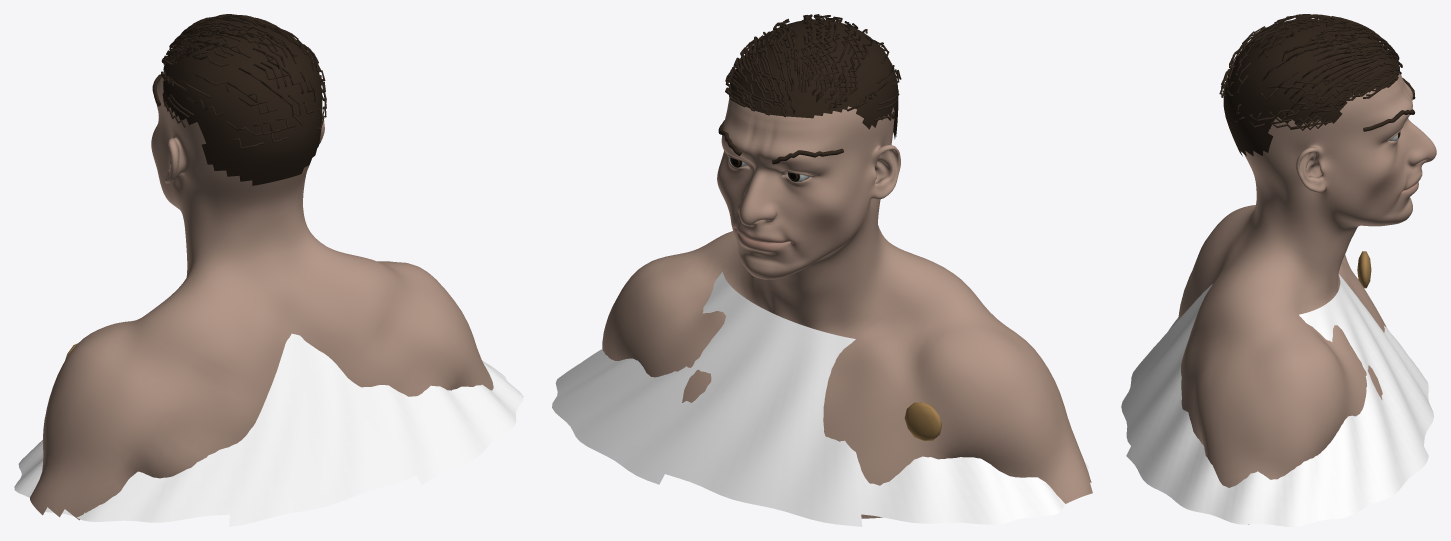
The model's file is envoy_024.glb.
The picture shows the model from 3 angles, left to right: view 1: azimuth 30°, elevation 25°; view 2: azimuth 150°, elevation 25°; view 3: azimuth 270°, elevation 25°; orthographic projection. The views are drawn at different scales.
Visible parts, largest first — view 1: Envoy 024 body, Folded shoulder mantle, Envoy 024 fitted scalp; view 2: Envoy 024 body, Folded shoulder mantle, Envoy 024 fitted scalp, Shoulder clasp; view 3: Envoy 024 body, Folded shoulder mantle, Envoy 024 fitted scalp, Shoulder clasp.
Part boxes in pixels (<box>): Envoy 024 body: <box>30,70,493,520</box>; Folded shoulder mantle: <box>14,333,523,526</box>; Envoy 024 fitted scalp: <box>162,20,322,185</box>; Envoy 024 body: <box>602,92,1092,518</box>; Folded shoulder mantle: <box>552,271,1088,526</box>; Envoy 024 fitted scalp: <box>730,19,898,139</box>; Shoulder clasp: <box>904,402,941,440</box>; Envoy 024 body: <box>1178,73,1436,524</box>; Folded shoulder mantle: <box>1121,274,1433,526</box>; Envoy 024 fitted scalp: <box>1223,19,1399,156</box>; Shoulder clasp: <box>1357,251,1371,288</box>.
Bounding box in the file's own units: 0.3039 × 0.2465 × 0.1783.
